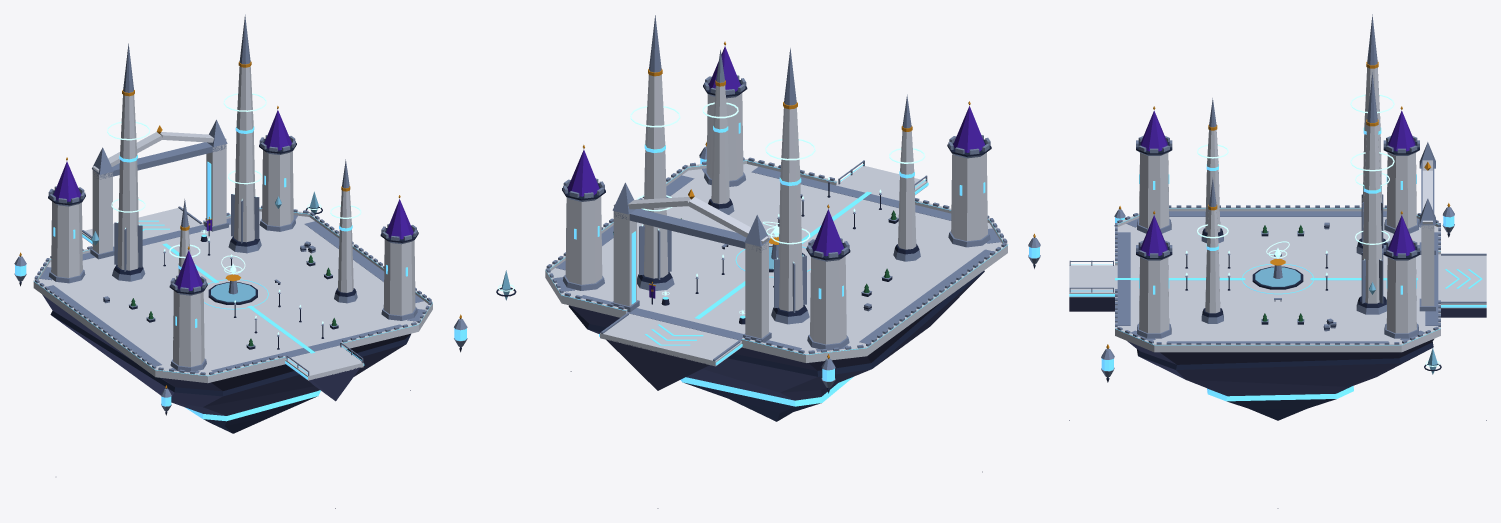
Rendered from chunk_spire_court.fbx.
3 views of the same model, side by side, from view 1: azimuth 30°, elevation 25°; view 2: azimuth 150°, elevation 25°; view 3: azimuth 270°, elevation 25° (orthographic). The views are drawn at different scales.
Parts seen in each view (by area): view 1: chunk_spire_court; view 2: chunk_spire_court; view 3: chunk_spire_court.
Boxes of the visible parts, x1=… form: chunk_spire_court: x1=14, y1=14, x2=467, y2=508; chunk_spire_court: x1=496, y1=15, x2=1040, y2=508; chunk_spire_court: x1=1069, y1=14, x2=1486, y2=508.
Bounding box in the file's own units: 256 × 256 × 256.
